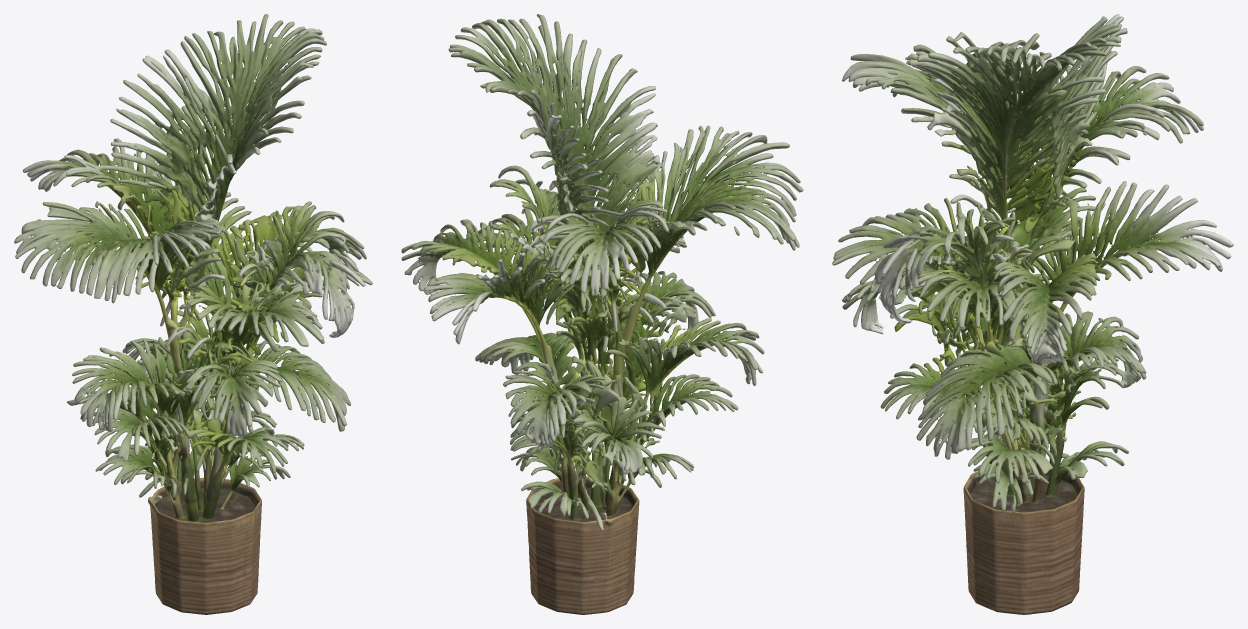
The model's file is Large Potted Areca Palm in Woven Rattan Planter [qxelEa].glb.
3 views of the same model, side by side, from view 1: azimuth 30°, elevation 25°; view 2: azimuth 150°, elevation 25°; view 3: azimuth 270°, elevation 25° (orthographic). The views are drawn at different scales.
Parts seen in each view (by area): view 1: world; view 2: world; view 3: world.
Boxes of the visible parts, bbox=[...] form: world: bbox=[14, 14, 372, 614]; world: bbox=[401, 14, 803, 614]; world: bbox=[832, 14, 1233, 614].
Size of the model in its own units: 0.7002 by 1 by 0.6101.
Materials: 1 (1 with a texture image).
